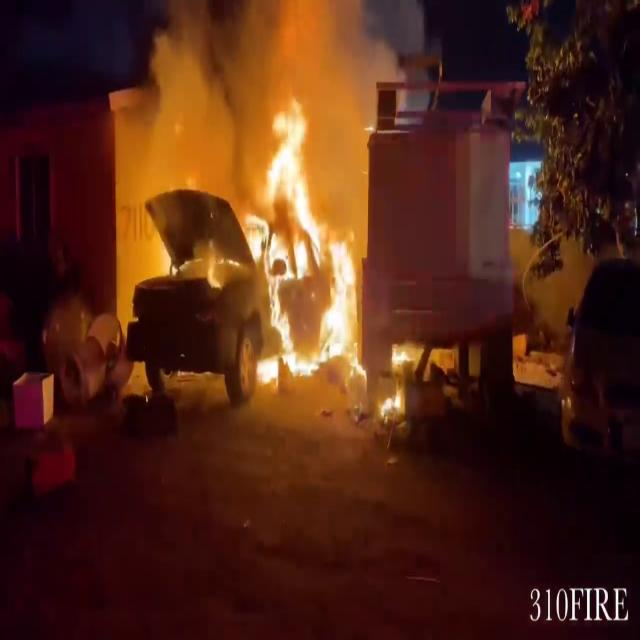Fire: (242, 90, 364, 391)
Smoke: (137, 0, 417, 178)
